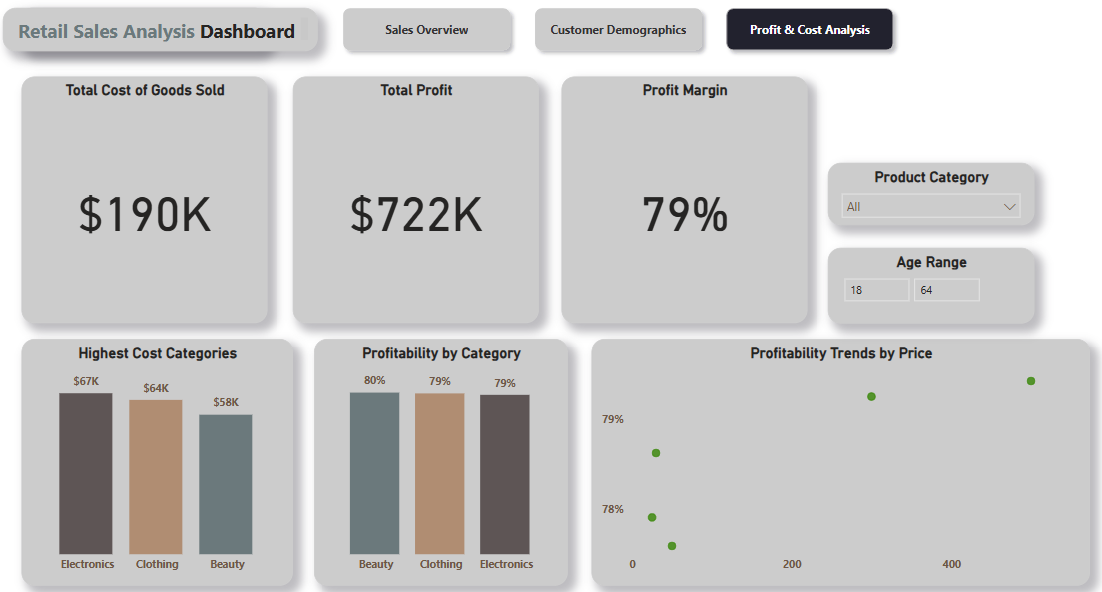

The page's visual inventory and layout, read from the dashboard file:
{"tool":"powerbi","page":{"name":"Profit & Cost Analysis","canvas":[1280,720],"ordinal":2},"visuals":[{"type":"card","title":"Total Cost of Goods Sold","fields":{"Values":["Sum(public retail_sales.cogs)"]},"box":[36.7,128.6,280,280.7],"z":0},{"type":"card","title":"Profit Margin","fields":{"Values":["sales.Profit Margin (%)"]},"box":[651,128.6,280,280.7],"z":1000},{"type":"card","title":"Total Profit","fields":{"Values":["sales.Total Profit"]},"box":[345.4,128.6,280,280.7],"z":2000},{"type":"clusteredColumnChart","title":"Highest Cost Categories","fields":{"Category":["sales.category"],"Y":["Sum(sales.cogs)"]},"box":[36.7,426.9,308.6,280.7],"z":3000},{"type":"clusteredColumnChart","title":"Profitability by Category","fields":{"Category":["sales.category"],"Y":["sales.Profit Margin (%)"]},"box":[369.6,426.9,288.8,280.7],"z":4000},{"type":"scatterChart","title":"Profitability Trends by Price","fields":{"Y":["sales.Profit Margin (%)"],"X":["sales.price_per_unit"]},"box":[684.8,426.9,567.3,280.7],"z":5000},{"type":"slicer","title":"Product Category","fields":{"Values":["sales.category"]},"box":[953.8,226.3,235.1,71.3],"z":6000},{"type":"slicer","title":"Age Range","fields":{"Values":["sales.age"]},"box":[953.8,322.6,235.1,86.7],"z":7000},{"type":"textbox","box":[33.8,49.2,282.9,49.2],"z":8000},{"type":"pageNavigator","box":[393.8,41.1,645.9,66.1],"z":9000},{"type":"textbox","box":[16.2,49.2,358.6,49.2],"z":10000}]}

Visuals, with their boxes on the page's 1280x720 design canvas (x1, y1, x2, y2). These are canvas units, not pixel positions in the 1102x592 screenshot, which may show the page scaled, cropped or inside an application window:
"Total Cost of Goods Sold" card: detection(37, 129, 317, 409)
"Profit Margin" card: detection(651, 129, 931, 409)
"Total Profit" card: detection(345, 129, 625, 409)
"Highest Cost Categories" clusteredColumnChart: detection(37, 427, 345, 708)
"Profitability by Category" clusteredColumnChart: detection(370, 427, 658, 708)
"Profitability Trends by Price" scatterChart: detection(685, 427, 1252, 708)
"Product Category" slicer: detection(954, 226, 1189, 298)
"Age Range" slicer: detection(954, 323, 1189, 409)
textbox: detection(34, 49, 317, 98)
pageNavigator: detection(394, 41, 1040, 107)
textbox: detection(16, 49, 375, 98)
